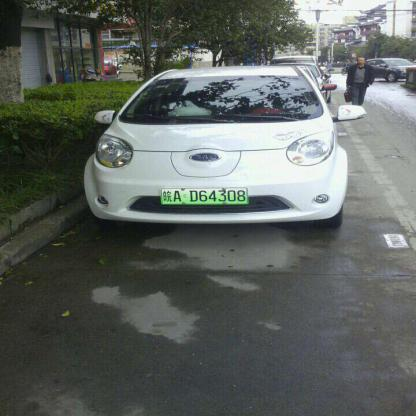lp: (162, 188, 246, 204)
